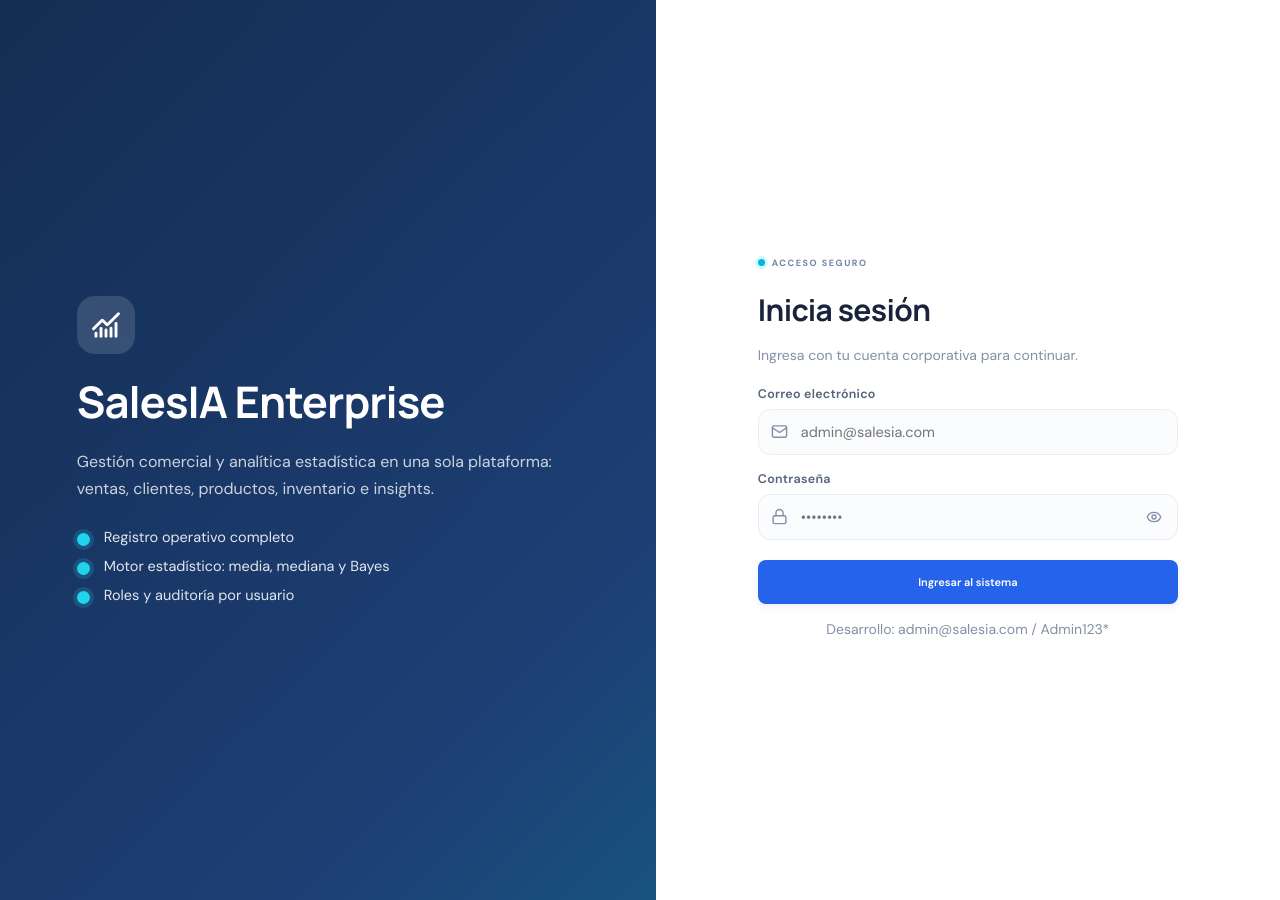
Test: App › muestra error con credenciales inválidas
Type "mal@correo.com" into the field with placeholder "admin@salesia.com" at (968, 432), box top-left (758, 408), bottom-right (1178, 454)
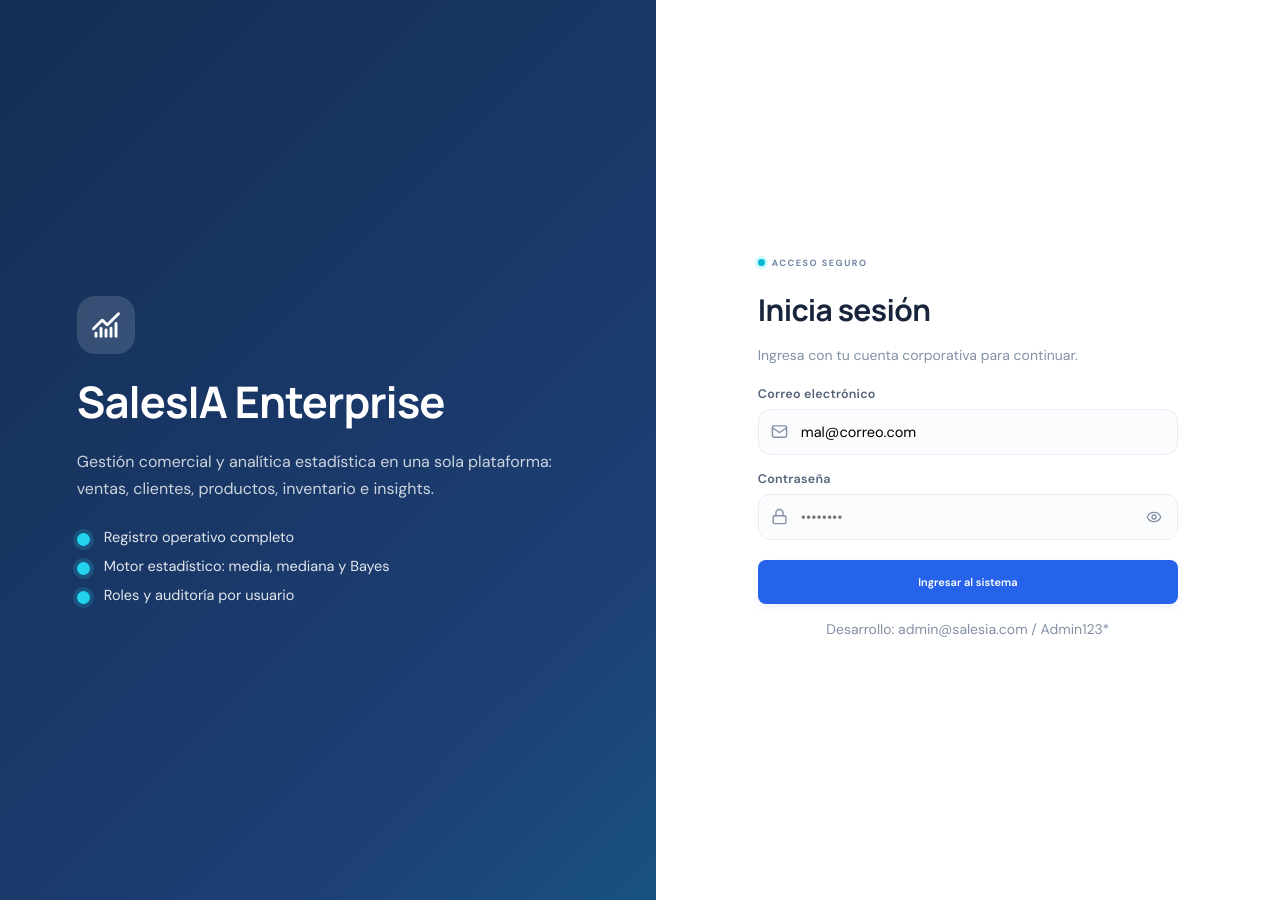
Type "incorrecta" into the password field with placeholder "••••••••" at (968, 516), box top-left (758, 494), bottom-right (1178, 540)
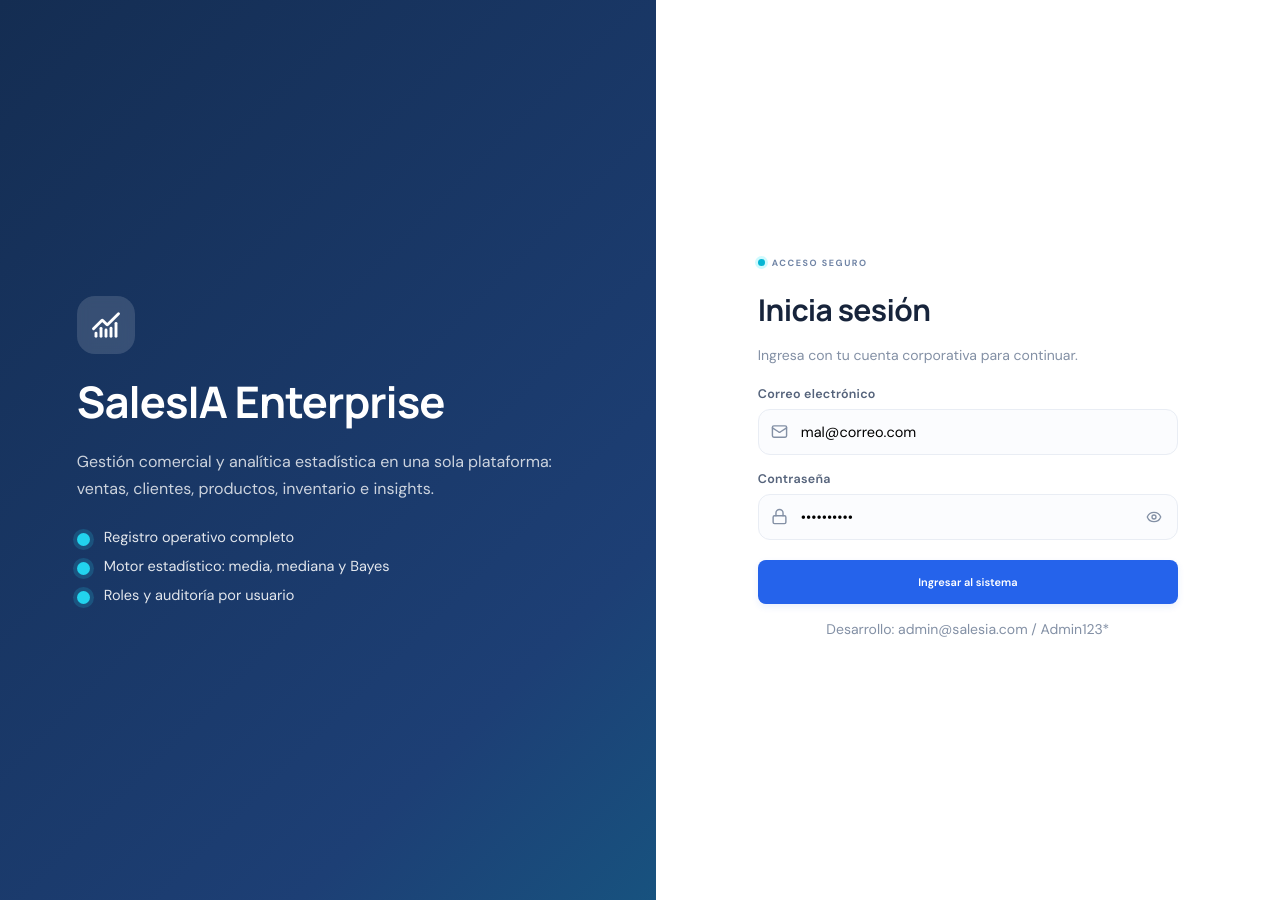
Click the button "Ingresar al sistema" at (968, 582), box top-left (758, 560), bottom-right (1178, 604)
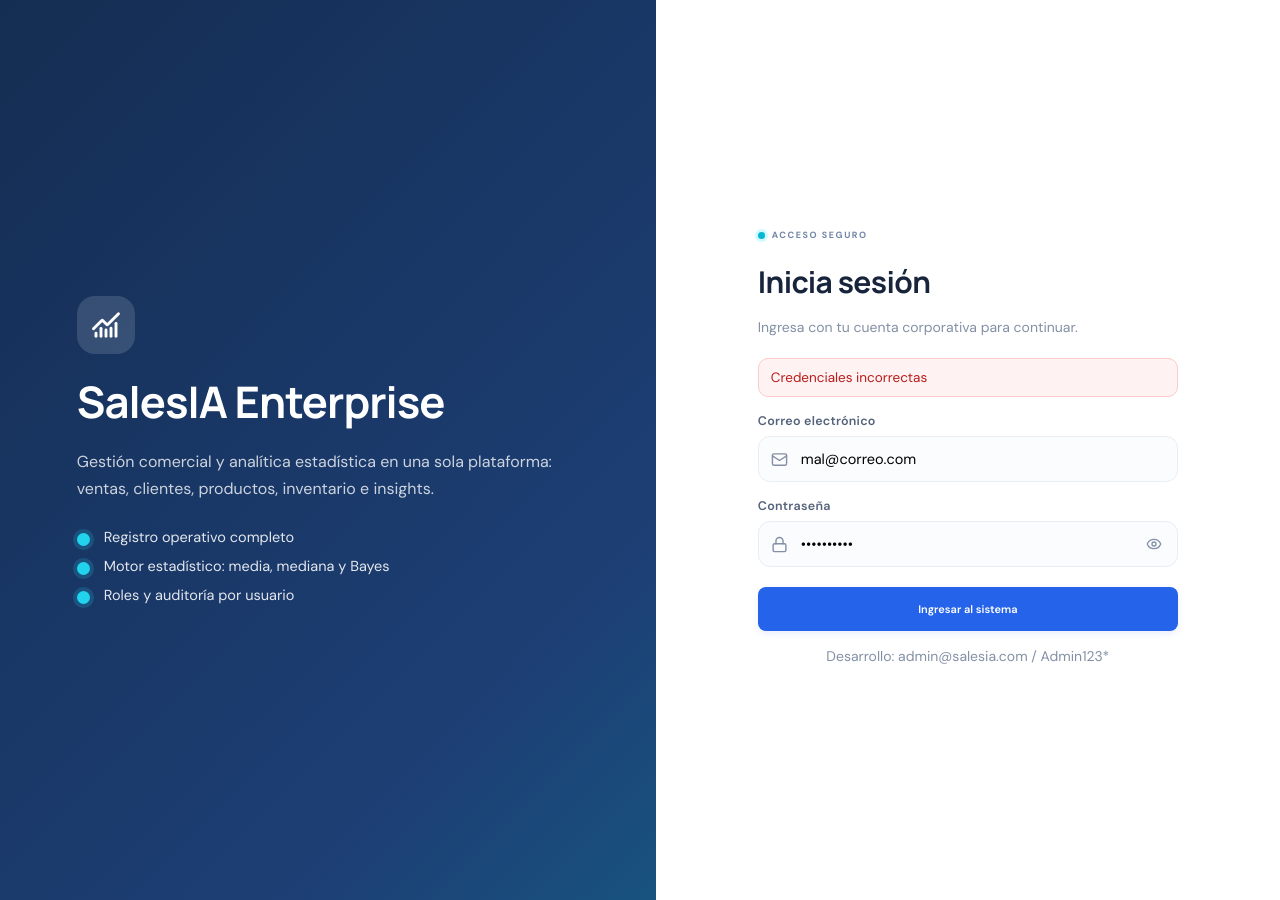
Check: the heading "Inicia sesión" is shown, box top-left (758, 261), bottom-right (930, 302)
Check: the text "Credenciales incorrectas" is shown, box top-left (758, 358), bottom-right (1178, 397)
